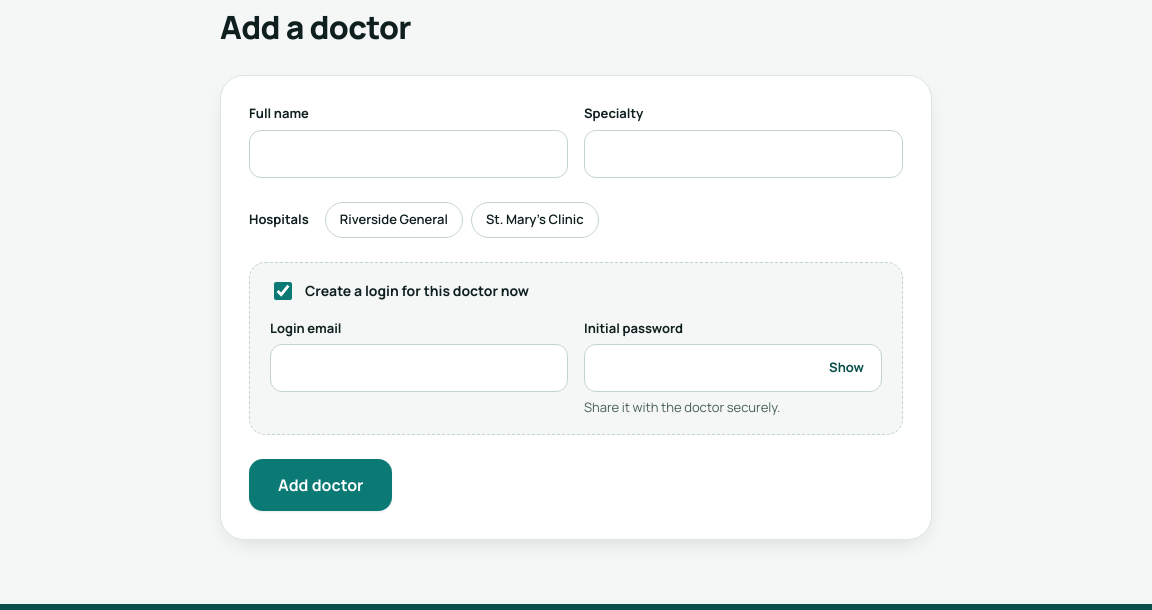
Test case: add a doctor › can skip the login
This screenshot has width=1152, height=610.
Check: the field labelled "Full name" is shown, box [249,130,568,178]
Click the checkbox labelled "Create a login for this doctor now" at (283, 290), box [274,282,292,300]
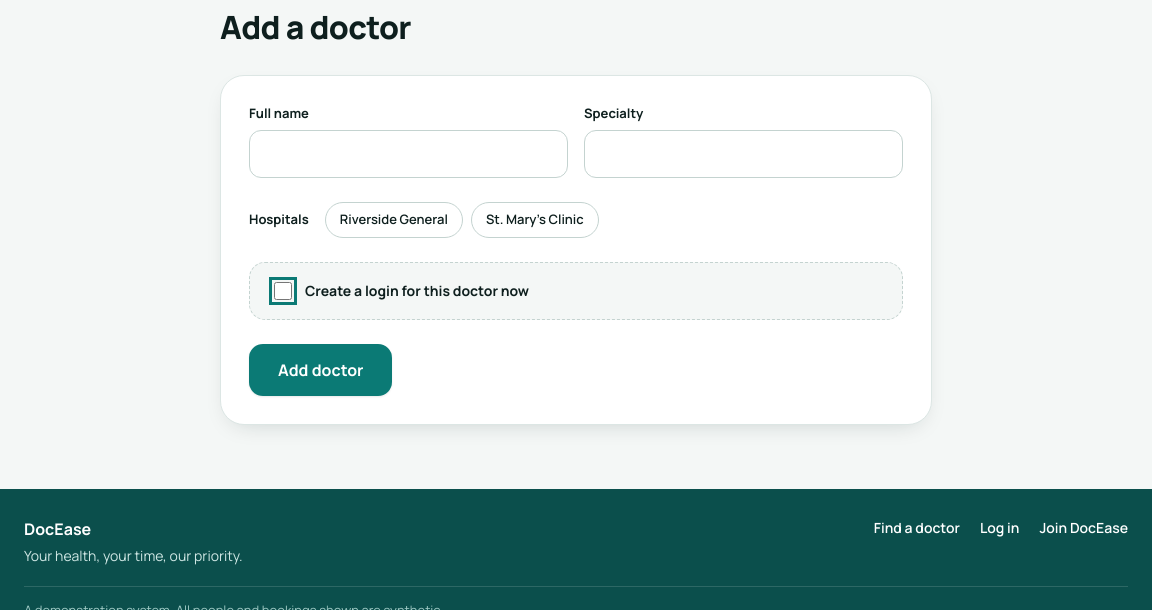
Type "Dr. Nadia Perera" into the field labelled "Full name" at (408, 154), box [249,130,568,178]
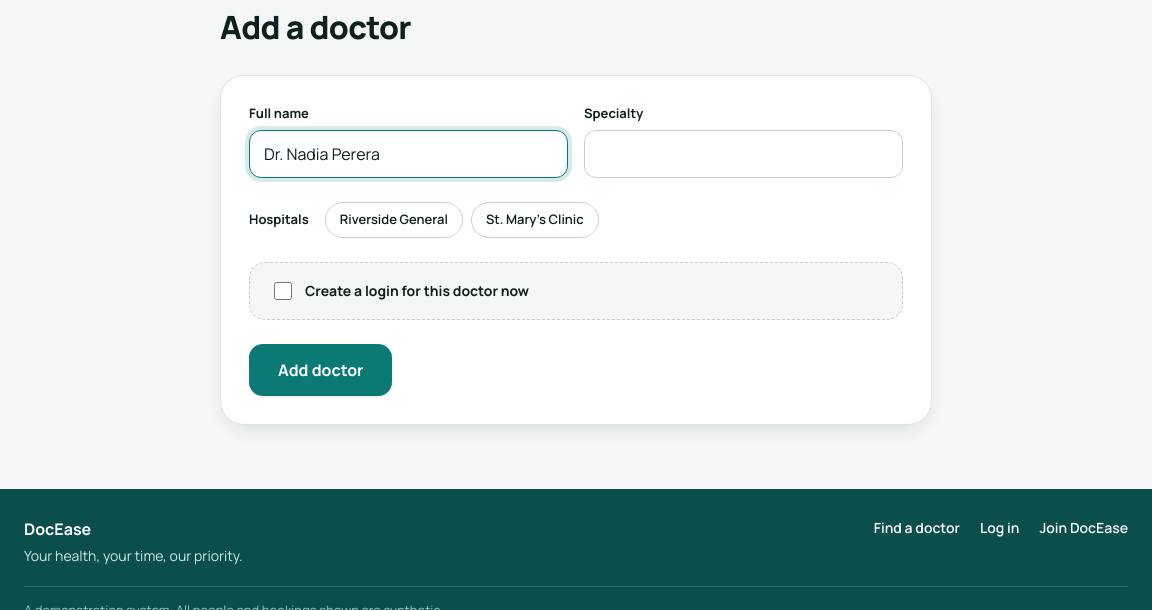
Type "Neurology" into the field labelled "Specialty" at (744, 154), box [584,130,903,178]
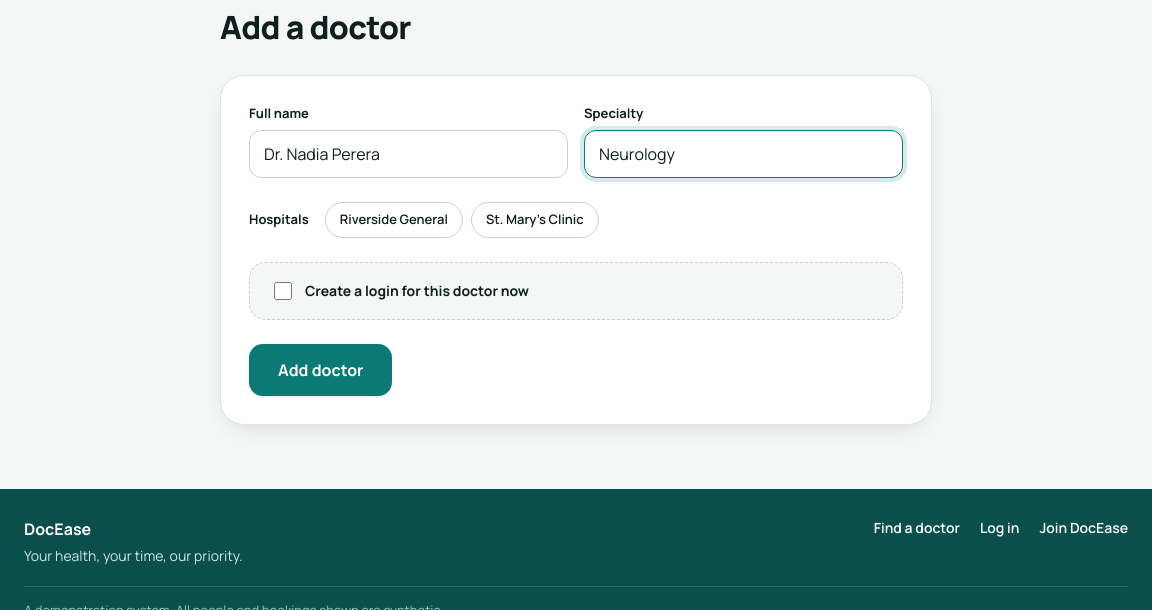
Click the checkbox labelled "Riverside General" at (394, 220), box [325,202,463,238]
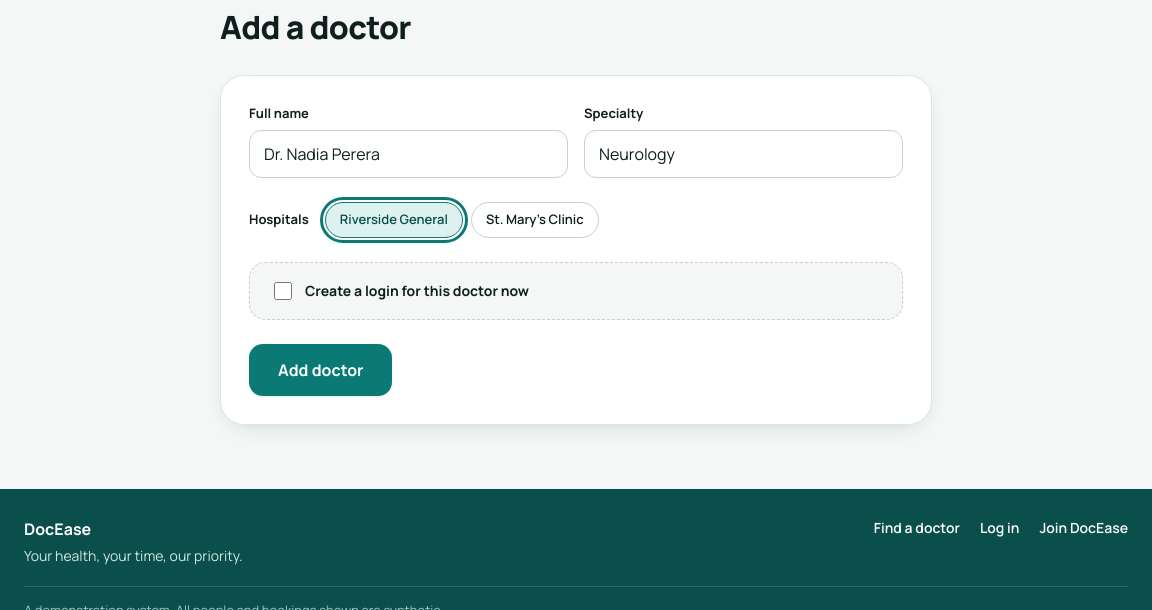
Click the button "Add doctor" at (321, 370), box [249,344,392,396]
(page scrolled)
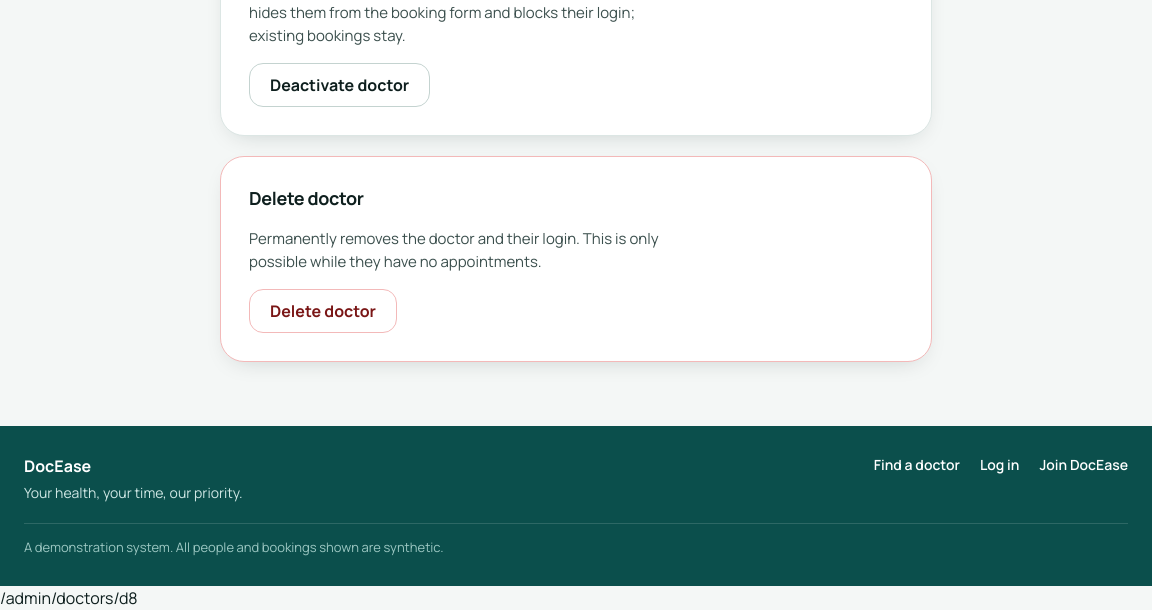
Check: the text with test id "location" reads "/admin/doctors/d8", box [0,586,138,608]
